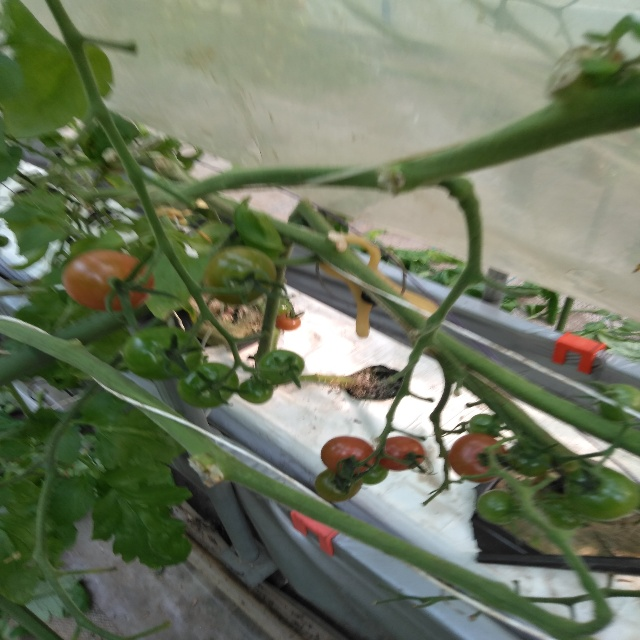l_fully_ripened: (320, 436, 376, 475), (375, 436, 427, 471)
l_green: (200, 246, 277, 304), (564, 465, 639, 522), (124, 327, 202, 381), (177, 362, 239, 409), (594, 383, 640, 422), (315, 469, 366, 502), (257, 350, 304, 385), (477, 489, 520, 524), (509, 445, 550, 477), (239, 378, 273, 405), (469, 413, 500, 437), (363, 461, 390, 484)
l_half_ripened: (60, 250, 154, 312), (448, 433, 510, 483), (276, 313, 301, 331)
